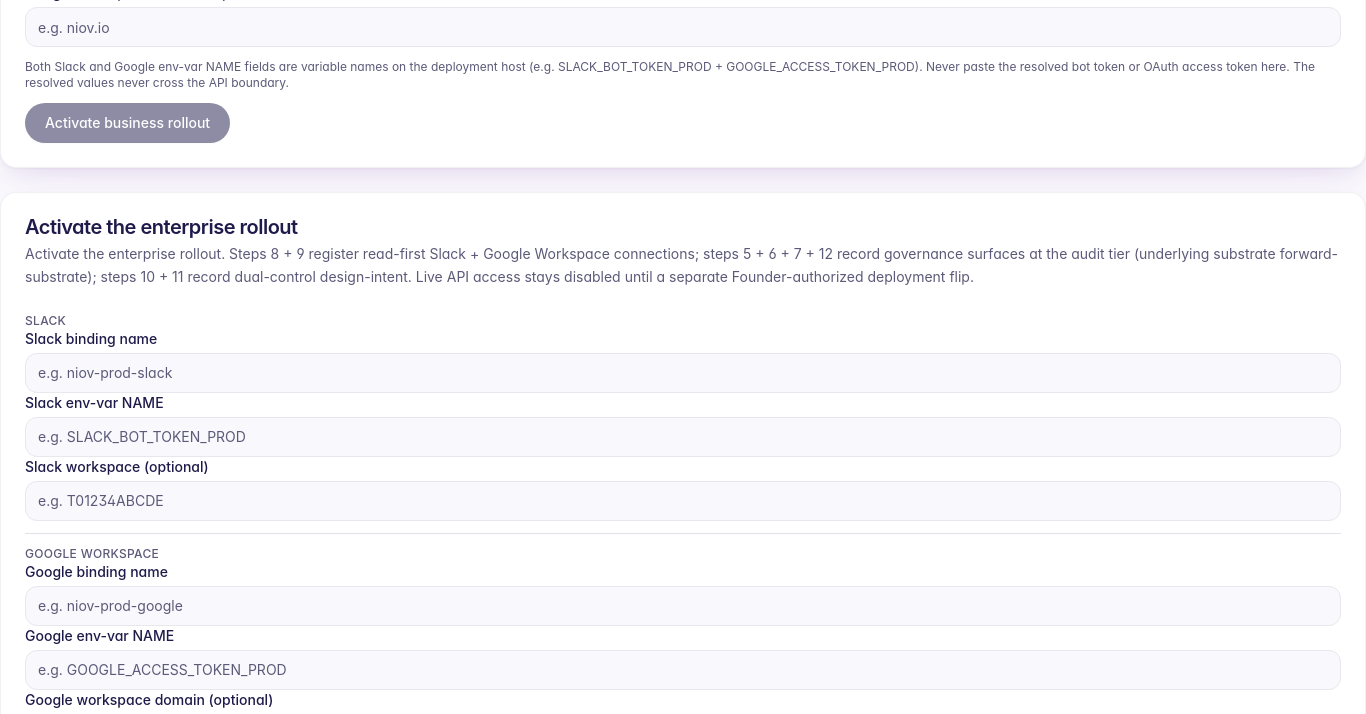
Test: D6 enterprise — successful activation › renders the enterprise-scope memory label at step 3
(page scrolled)
In the field with test id "enterprise-slack-display-name-input": (683, 372) left=25, top=352, right=1341, bottom=392, type "niov-prod-slack"
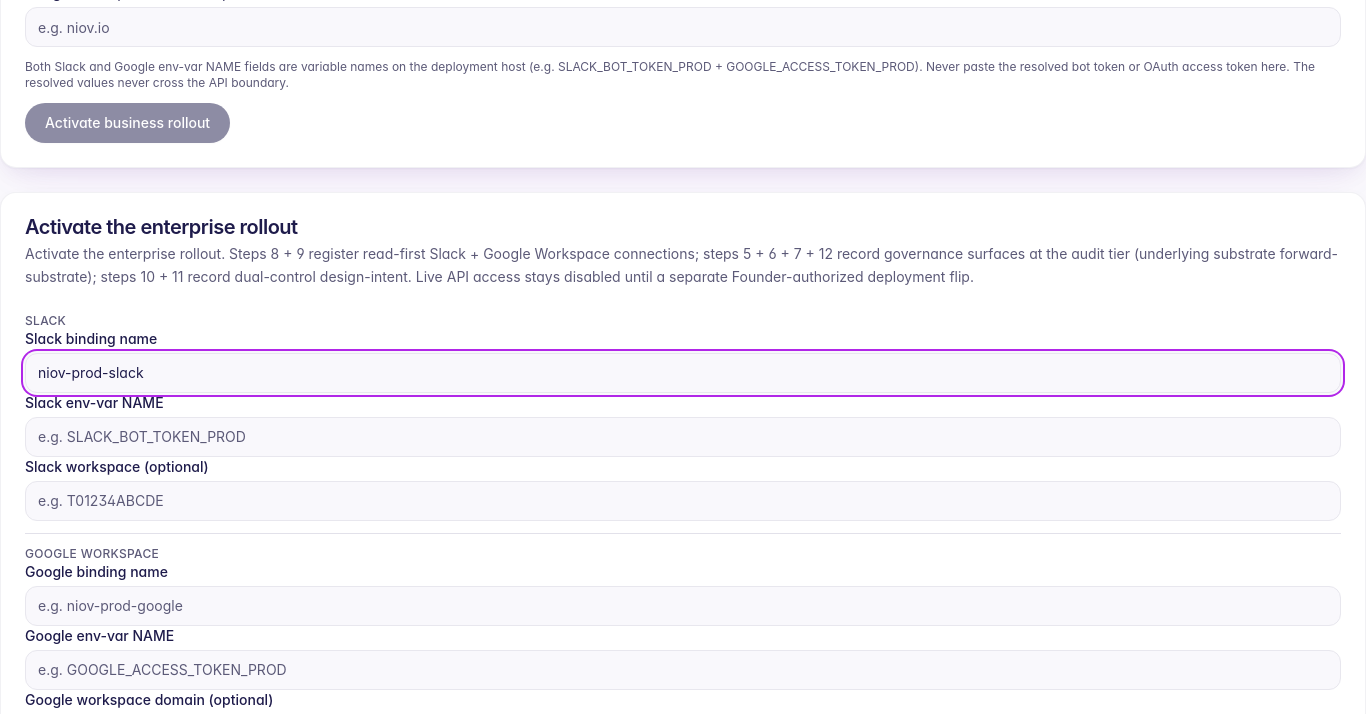
In the field with test id "enterprise-slack-secret-ref-input": (683, 436) left=25, top=416, right=1341, bottom=456, type "SLACK_BOT_TOKEN_PROD"
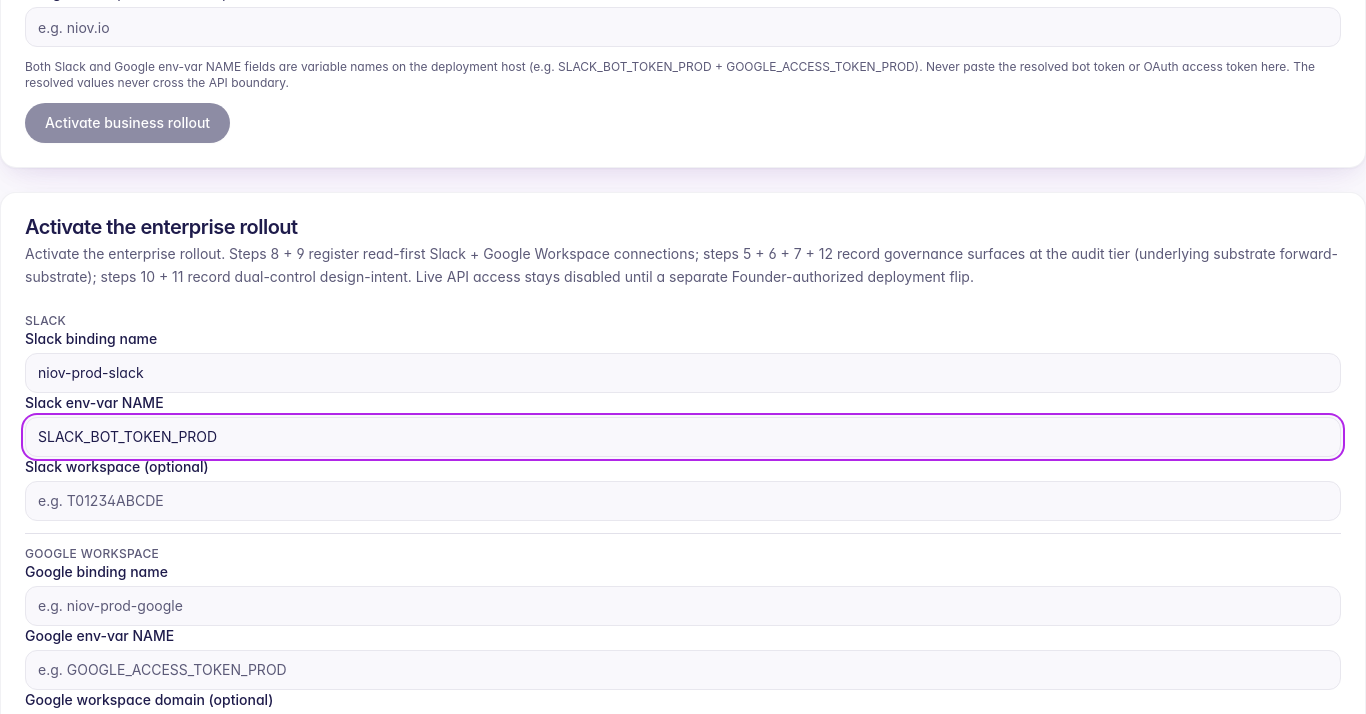
In the field with test id "enterprise-google-display-name-input": (683, 606) left=25, top=586, right=1341, bottom=626, type "niov-prod-google"
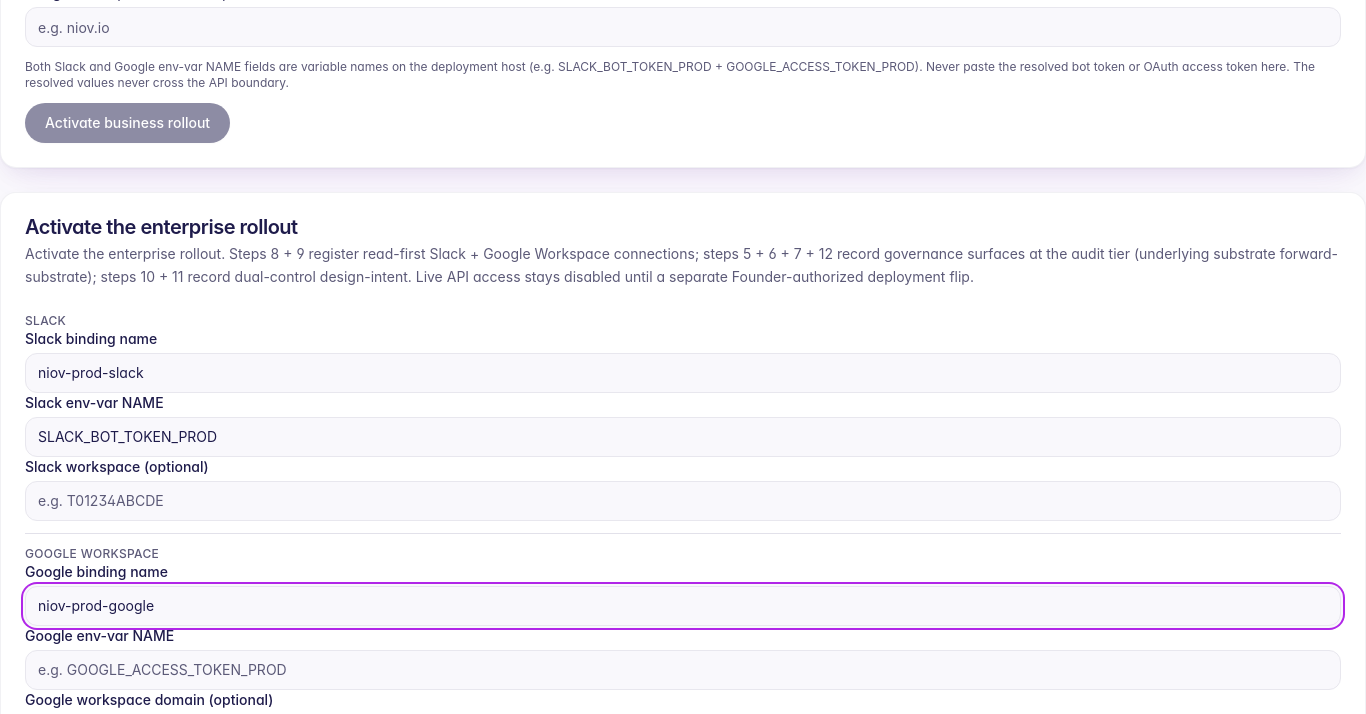
In the field with test id "enterprise-google-secret-ref-input": (683, 670) left=25, top=650, right=1341, bottom=690, type "GOOGLE_ACCESS_TOKEN_PROD"
(page scrolled)
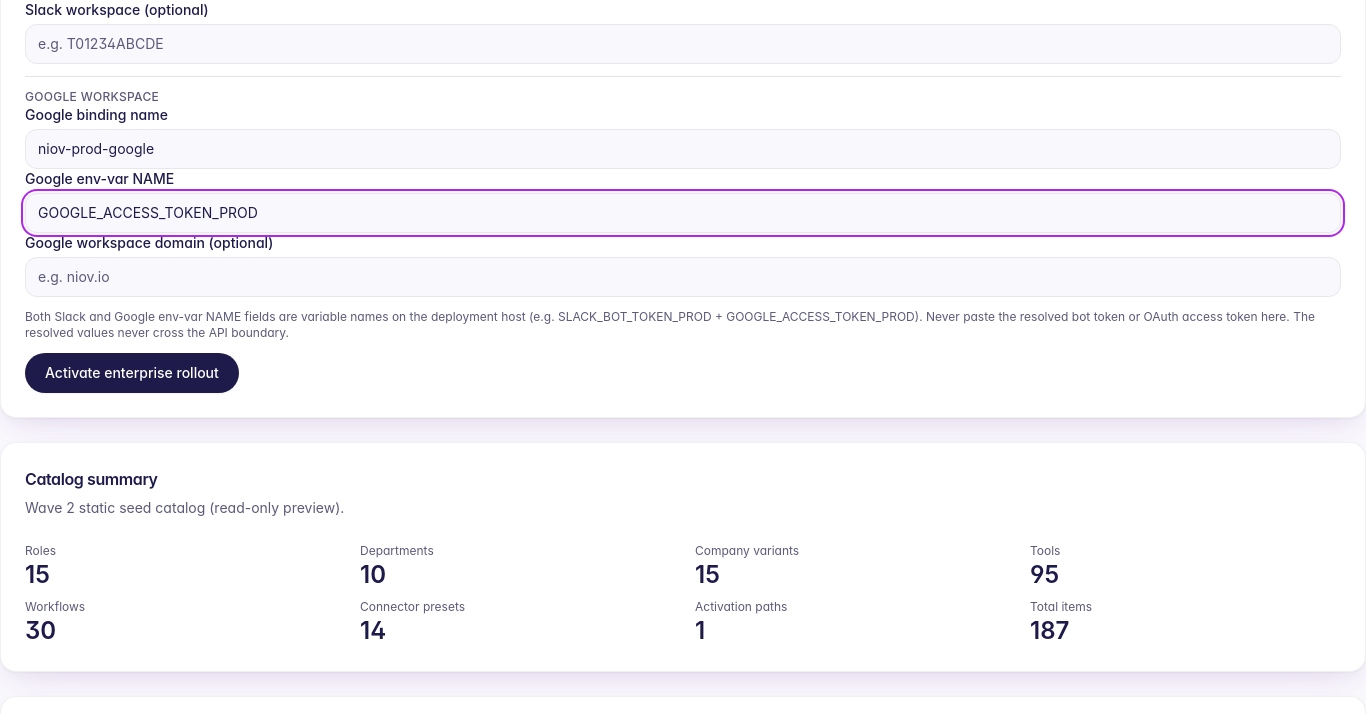
Click the button with test id "activate-enterprise-button": (132, 372) left=25, top=352, right=239, bottom=392
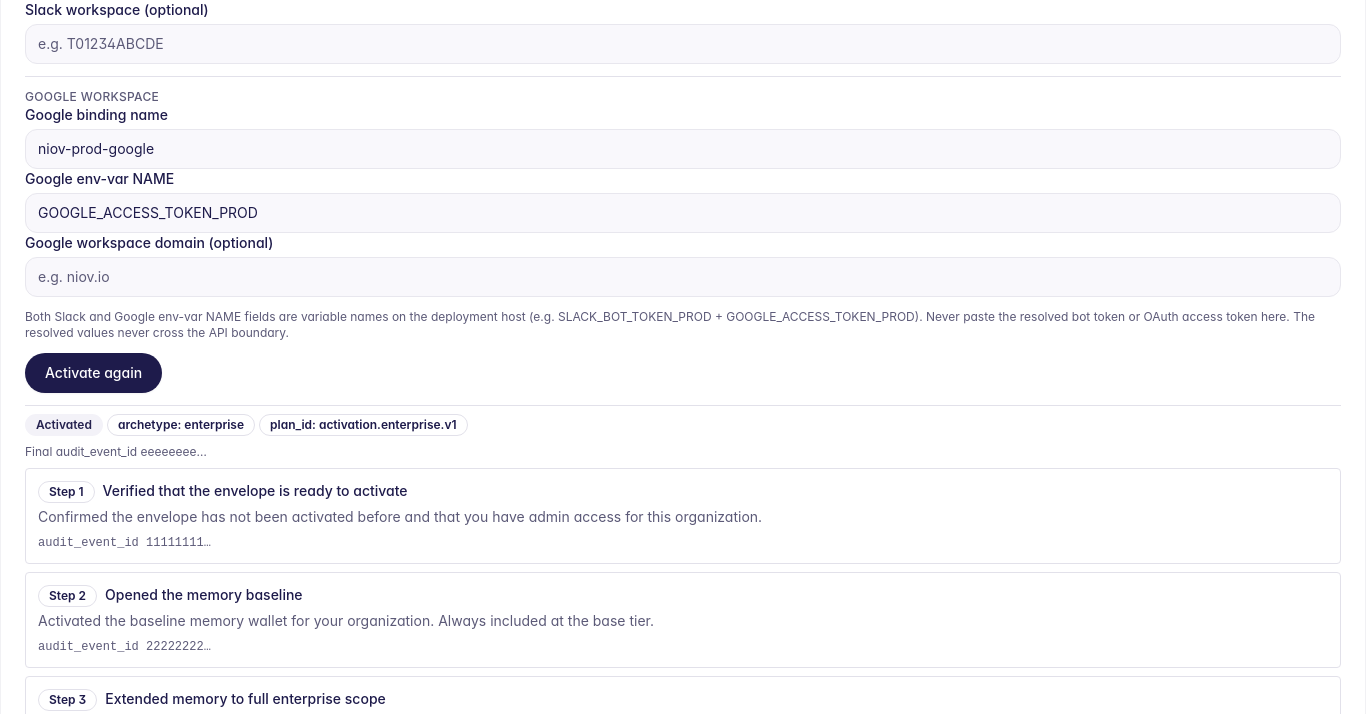
Now the text "Extended memory to full enterprise scope" is shown, box left=105, top=688, right=386, bottom=708
